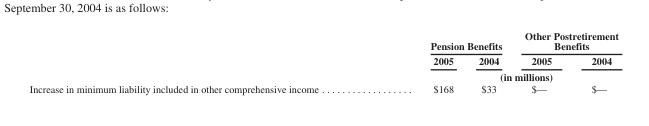table: (28, 29, 617, 94)
table column: (28, 29, 373, 94), (373, 29, 465, 94), (512, 29, 570, 94), (465, 29, 512, 94), (570, 29, 617, 94)
table column header: (28, 29, 617, 82)
table row: (28, 29, 617, 53), (28, 53, 617, 68), (28, 68, 617, 82), (28, 82, 617, 94)
table spanning cell: (373, 68, 617, 82), (373, 29, 512, 53), (512, 29, 617, 53)
